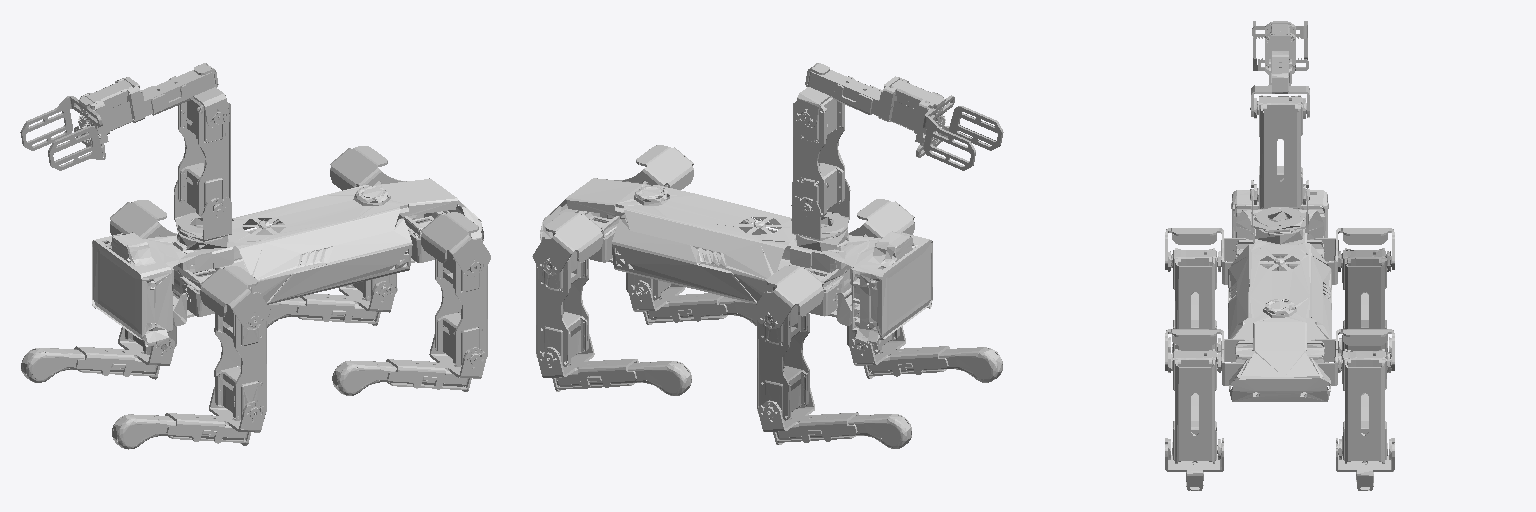
URDF robot description (min2_pro):
<?xml version='1.0' encoding='utf-8'?>
<robot name="min2_pro" version="1.0">
  <mujoco>
    <compiler strippath="false" fusestatic="false" discardvisual="false" />
  </mujoco>
  <joint name="fl_hip_joint" type="revolute">
    <limit lower="-0.6" upper="0.6" effort="0.43" velocity="10.00000" />
    <parent link="body_fixed" />
    <child link="left_front_shoulder_X" />
    <axis xyz="1.00000 -0.00000 -0.00000" />
    <origin xyz="-0.04946 -0.0225 -0.02207" rpy="0 0 0" />
    <dynamics damping="0.04" friction="0.001" />
  </joint>
  <joint name="fl_thigh_joint" type="revolute">
    <limit lower="-1.22" upper="1.91" effort="0.43" velocity="10.00000" />
    <parent link="left_front_shoulder_X" />
    <child link="left_front_thigh_Y" />
    <axis xyz="-0.00000 -1.00000 -0.00000" />
    <origin xyz="0.01857 -0.04956 0" rpy="0 0 0" />
    <dynamics damping="0.04" friction="0.001" />
  </joint>
  <joint name="fl_calf_joint" type="revolute">
    <limit lower="-1.134" upper="1.047" effort="0.43" velocity="10.00000" />
    <parent link="left_front_thigh_Y" />
    <child link="left_front_calf" />
    <axis xyz="-0.00000 -1.00000 -0.00000" />
    <origin xyz="0 0 -0.05991" rpy="0 0.2791268381 0" />
    <dynamics damping="0.04" friction="0.001" />
  </joint>
  <joint name="fr_hip_joint" type="revolute">
    <limit lower="-0.6" upper="0.6" effort="0.43" velocity="10.00000" />
    <parent link="body_fixed" />
    <child link="right_front_shoulder_X" />
    <axis xyz="-1.00000 -0.00000 -0.00000" />
    <origin xyz="-0.04946 0.0225 -0.02207" rpy="0 0 0" />
    <dynamics damping="0.04" friction="0.001" />
  </joint>
  <joint name="fr_thigh_joint" type="revolute">
    <limit lower="-1.22" upper="1.91" effort="0.43" velocity="10.00000" />
    <parent link="right_front_shoulder_X" />
    <child link="right_front_thigh_Y" />
    <axis xyz="-0.00000 -1.00000 -0.00000" />
    <origin xyz="0.01857 0.04876 0" rpy="0 0 0" />
    <dynamics damping="0.04" friction="0.001" />
  </joint>
  <joint name="fr_calf_joint" type="revolute">
    <limit lower="-1.134" upper="1.047" effort="0.43" velocity="10.00000" />
    <parent link="right_front_thigh_Y" />
    <child link="right_front_calf" />
    <axis xyz="-0.00000 -1.00000 -0.00000" />
    <origin xyz="1e-05 0.0008 -0.05991" rpy="0 0.2791268381 0" />
    <dynamics damping="0.04" friction="0.001" />
  </joint>
  <joint name="br_hip_joint" type="revolute">
    <limit lower="-0.6" upper="0.6" effort="0.43" velocity="10.00000" />
    <parent link="body_fixed" />
    <child link="right_hind_shoulder_X" />
    <axis xyz="-1.00000 -0.00000 -0.00000" />
    <origin xyz="0.10059 0.0225 -0.02207" rpy="0 0 0" />
    <dynamics damping="0.04" friction="0.001" />
  </joint>
  <joint name="br_thigh_joint" type="revolute">
    <limit lower="-1.22" upper="1.91" effort="0.43" velocity="10.00000" />
    <parent link="right_hind_shoulder_X" />
    <child link="right_hind_thigh_Y" />
    <axis xyz="-0.00000 -1.00000 -0.00000" />
    <origin xyz="0.01853 0.04876 0" rpy="0 0 0" />
    <dynamics damping="0.04" friction="0.001" />
  </joint>
  <joint name="br_calf_joint" type="revolute">
    <limit lower="-1.134" upper="1.047" effort="0.43" velocity="10.00000" />
    <parent link="right_hind_thigh_Y" />
    <child link="right_hind_calf" />
    <axis xyz="-0.00000 -1.00000 -0.00000" />
    <origin xyz="0 0.0008 -0.0599" rpy="0 0.2791268381 0" />
    <dynamics damping="0.04" friction="0.001" />
  </joint>
  <joint name="bl_hip_joint" type="revolute">
    <limit lower="-0.6" upper="0.6" effort="0.43" velocity="10.00000" />
    <parent link="body_fixed" />
    <child link="left_hind_shoulder_X" />
    <axis xyz="1.00000 -0.00000 -0.00000" />
    <origin xyz="0.10059 -0.0225 -0.02207" rpy="0 0 0" />
    <dynamics damping="0.04" friction="0.001" />
  </joint>
  <joint name="bl_thigh_joint" type="revolute">
    <limit lower="-1.22" upper="1.91" effort="0.43" velocity="10.00000" />
    <parent link="left_hind_shoulder_X" />
    <child link="left_hind_thigh_Y" />
    <axis xyz="-0.00000 -1.00000 -0.00000" />
    <origin xyz="0.01853 -0.04956 2e-05" rpy="0 0 0" />
    <dynamics damping="0.04" friction="0.001" />
  </joint>
  <joint name="bl_calf_joint" type="revolute">
    <limit lower="-1.134" upper="1.047" effort="0.43" velocity="10.00000" />
    <parent link="left_hind_thigh_Y" />
    <child link="left_hind_calf" />
    <axis xyz="-0.00000 -1.00000 -0.00000" />
    <origin xyz="0 0 -0.05994" rpy="0 0.2791268381 0" />
    <dynamics damping="0.04" friction="0.001" />
  </joint>
  <joint name="arm_yaw_joint" type="revolute">
    <limit lower="-3.14000" upper="3.14000" effort="0.43" velocity="10.00000" />
    <parent link="body_fixed" />
    <child link="claw_base_Z" />
    <axis xyz="0.00000 0.00000 1.00000" />
    <origin xyz="-0.02471 0 0.01166" rpy="0 0 0" />
    <dynamics damping="0.04" friction="0.001" />
  </joint>
  <joint name="arm_thigh_joint" type="revolute">
    <limit lower="-1.632" upper="1.3" effort="0.43" velocity="10.00000" />
    <parent link="claw_base_Z" />
    <child link="claw_mainarm_Y" />
    <axis xyz="0.00000 -1.00000 0.00000" />
    <origin xyz="0 0.01853 0.01538" rpy="0 0 0" />
    <dynamics damping="0.04" friction="0.001" />
  </joint>
  <joint name="arm_calf_joint" type="revolute">
    <limit lower="-0.95" upper="1.57" effort="0.43" velocity="10.00000" />
    <parent link="claw_mainarm_Y" />
    <child link="claw_forearm_Y" />
    <axis xyz="0.00000 -1.00000 0.00000" />
    <origin xyz="0 0 0.0599" rpy="0 -0.1744383615 0" />
    <dynamics damping="0.04" friction="0.001" />
  </joint>
  <joint name="hand_right_joint" type="fixed">
    <parent link="claw_forearm_Y" />
    <child link="right_claw" />
    <origin xyz="-0.0957 -0.00124 0.01837" rpy="0 0 0" />
  </joint>
  <joint name="hand_left_joint" type="fixed">
    <parent link="claw_forearm_Y" />
    <child link="left_claw" />
    <origin xyz="-0.0957 -0.03531 0.01837" rpy="0 0 0" />
  </joint>
  <link name="body_fixed">
    <inertial>
      <origin xyz="0.033729 9.9e-05 -0.015405" rpy="0 0 0" />
      <mass value="0.28377" />
      <inertia ixx="0.0001208096633" ixy="2.599996629e-07" ixz="-2.870910424e-06" iyy="0.001147440317" iyz="1.500046467e-07" izz="0.00120568202" />
    </inertial>
    <visual name="base_visual">
      <origin xyz="-0.03051 0 -0.03361" rpy="0 0 0" />
      <geometry>
        <mesh filename="../meshes/stl/fillet_3_006.stl" />
      </geometry>
      <material name="base_visual_material">
        <color rgba="0.88 0.88 0.88 1" />
      </material>
    </visual>
    <collision name="base_collision">
      <origin xyz="-0.03051 0 -0.03361" rpy="0 0 0" />
      <geometry>
        <mesh filename="../meshes/stl/fillet_3_006.stl" />
      </geometry>
    </collision>
  </link>
  <link name="claw_base_Z">
    <inertial>
      <origin xyz="0.00045 -4.9e-05 0.005394" rpy="0 0 0" />
      <mass value="0.01" />
      <inertia ixx="1e-05" ixy="0" ixz="0" iyy="1e-05" iyz="0" izz="1e-05" />
    </inertial>
    <visual name="arm_base_visual">
      <origin xyz="0 0 -0.00631" rpy="1.570800569 0 0" />
      <geometry>
        <mesh filename="../meshes/stl/cut_extrude_2_007.stl" />
      </geometry>
      <material name="arm_base_visual_material">
        <color rgba="0.82 0.82 0.82 1" />
      </material>
    </visual>
    <collision name="arm_base_collision">
      <origin xyz="0 0 -0.00631" rpy="1.570800569 0 0" />
      <geometry>
        <mesh filename="../meshes/stl/cut_extrude_2_007.stl" />
      </geometry>
    </collision>
  </link>
  <link name="left_hind_thigh_Y">
    <inertial>
      <origin xyz="0.00173 0.0186 -0.029682" rpy="0 0 0" />
      <mass value="0.062343" />
      <inertia ixx="4.672004477e-05" ixy="-1.000003486e-07" ixz="1.100060521e-07" iyy="4.153002593e-05" iyz="0" izz="9.970999296e-06" />
    </inertial>
    <visual name="bl_thigh_visual">
      <origin xyz="0.01154 0.01895 -0.02997" rpy="1.570800327 8.000045071e-12 -1.570800327" />
      <geometry>
        <mesh filename="../meshes/stl/fillet_2_004.stl" />
      </geometry>
      <material name="bl_thigh_visual_material">
        <color rgba="0.82 0.82 0.82 1" />
      </material>
    </visual>
    <collision name="bl_thigh_collision">
      <origin xyz="0.01154 0.01895 -0.02997" rpy="1.570800327 8.000045071e-12 -1.570800327" />
      <geometry>
        <mesh filename="../meshes/stl/fillet_2_004.stl" />
      </geometry>
    </collision>
  </link>
  <link name="left_hind_calf">
    <inertial>
      <origin xyz="-0.034729 0.018555 -0.013665" rpy="0 0 0" />
      <mass value="0.02225" />
      <inertia ixx="1.398998961e-05" ixy="0" ixz="-1.089999092e-06" iyy="1.366e-05" iyz="0" izz="1.500000386e-06" />
    </inertial>
    <visual name="bl_calf_visual">
      <origin xyz="-0.0715 0.01858 -0.02255" rpy="1.570800569 0 0" />
      <geometry>
        <mesh filename="../meshes/stl/cut_extrude_8_003.stl" />
      </geometry>
      <material name="bl_calf_visual_material">
        <color rgba="0.82 0.82 0.82 1" />
      </material>
    </visual>
    <collision name="bl_calf_collision">
      <origin xyz="-0.0715 0.01858 -0.02255" rpy="1.570800569 0 0" />
      <geometry>
        <mesh filename="../meshes/stl/cut_extrude_8_003.stl" />
      </geometry>
    </collision>
  </link>
  <link name="right_front_shoulder_X">
    <inertial>
      <origin xyz="0.018547 0.021288 0.007239" rpy="0 0 0" />
      <mass value="0.0196" />
      <inertia ixx="5.889996332e-06" ixy="5.700006902e-07" ixz="-2.599985012e-07" iyy="3.789997555e-06" iyz="1.159998744e-06" izz="6.889996113e-06" />
    </inertial>
    <visual name="fr_hip_visual">
      <origin xyz="0.01853 0.01416 0" rpy="1.570800569 0 0" />
      <geometry>
        <mesh filename="../meshes/stl/left_shoulder_convert_1_002.stl" />
      </geometry>
      <material name="fr_hip_visual_material">
        <color rgba="0.82 0.82 0.82 1" />
      </material>
    </visual>
    <collision name="fr_hip_collision">
      <origin xyz="0.01853 0.01416 0" rpy="1.570800569 0 0" />
      <geometry>
        <mesh filename="../meshes/stl/left_shoulder_convert_1_002.stl" />
      </geometry>
    </collision>
  </link>
  <link name="right_front_thigh_Y">
    <inertial>
      <origin xyz="0.001806 -0.018484 -0.029623" rpy="0 0 0" />
      <mass value="0.062343" />
      <inertia ixx="4.672004477e-05" ixy="1.000003486e-07" ixz="1.100060521e-07" iyy="4.153002593e-05" iyz="0" izz="9.970999296e-06" />
    </inertial>
    <visual name="fr_thigh_visual">
      <origin xyz="0.01154 -0.01815 -0.02995" rpy="1.570800327 -8.000045071e-12 1.570800327" />
      <geometry>
        <mesh filename="../meshes/stl/thigh_bracket_2_2_001.stl" />
      </geometry>
      <material name="fr_thigh_visual_material">
        <color rgba="0.7 0.7 0.7 1" />
      </material>
    </visual>
    <collision name="fr_thigh_collision">
      <origin xyz="0.01154 -0.01815 -0.02995" rpy="1.570800327 -8.000045071e-12 1.570800327" />
      <geometry>
        <mesh filename="../meshes/stl/thigh_bracket_2_2_001.stl" />
      </geometry>
    </collision>
  </link>
  <link name="right_front_calf">
    <inertial>
      <origin xyz="-0.034808 -0.018555 -0.013827" rpy="0 0 0" />
      <mass value="0.02225" />
      <inertia ixx="1.398998961e-05" ixy="0" ixz="-1.089999092e-06" iyy="1.366e-05" iyz="0" izz="1.500000386e-06" />
    </inertial>
    <visual name="fr_calf_visual">
      <origin xyz="-0.07151 -0.01858 -0.02256" rpy="1.570800569 0 0" />
      <geometry>
        <mesh filename="../meshes/stl/cut_extrude_8_001.stl" />
      </geometry>
      <material name="fr_calf_visual_material">
        <color rgba="0.82 0.82 0.82 1" />
      </material>
    </visual>
    <collision name="fr_calf_collision">
      <origin xyz="-0.07151 -0.01858 -0.02256" rpy="1.570800569 0 0" />
      <geometry>
        <mesh filename="../meshes/stl/cut_extrude_8_001.stl" />
      </geometry>
    </collision>
  </link>
  <link name="right_hind_shoulder_X">
    <inertial>
      <origin xyz="0.018547 0.021288 0.007239" rpy="0 0 0" />
      <mass value="0.0196" />
      <inertia ixx="5.889996332e-06" ixy="5.700006902e-07" ixz="-2.599985012e-07" iyy="3.789997555e-06" iyz="1.159998744e-06" izz="6.889996113e-06" />
    </inertial>
    <visual name="br_hip_visual">
      <origin xyz="0.01853 0.01416 0" rpy="1.570800569 0 0" />
      <geometry>
        <mesh filename="../meshes/stl/left_shoulder_convert_1_002.stl" />
      </geometry>
      <material name="br_hip_visual_material">
        <color rgba="0.82 0.82 0.82 1" />
      </material>
    </visual>
    <collision name="br_hip_collision">
      <origin xyz="0.01853 0.01416 0" rpy="1.570800569 0 0" />
      <geometry>
        <mesh filename="../meshes/stl/left_shoulder_convert_1_002.stl" />
      </geometry>
    </collision>
  </link>
  <link name="right_hind_thigh_Y">
    <inertial>
      <origin xyz="0.001733 -0.018484 -0.02957" rpy="0 0 0" />
      <mass value="0.062343" />
      <inertia ixx="4.672004477e-05" ixy="1.000003486e-07" ixz="1.100060521e-07" iyy="4.153002593e-05" iyz="0" izz="9.970999296e-06" />
    </inertial>
    <visual name="br_thigh_visual">
      <origin xyz="0.01154 -0.01815 -0.02995" rpy="1.570800327 -8.000045071e-12 1.570800327" />
      <geometry>
        <mesh filename="../meshes/stl/thigh_bracket_2_2_002.stl" />
      </geometry>
      <material name="br_thigh_visual_material">
        <color rgba="0.82 0.82 0.82 1" />
      </material>
    </visual>
    <collision name="br_thigh_collision">
      <origin xyz="0.01154 -0.01815 -0.02995" rpy="1.570800327 -8.000045071e-12 1.570800327" />
      <geometry>
        <mesh filename="../meshes/stl/thigh_bracket_2_2_002.stl" />
      </geometry>
    </collision>
  </link>
  <link name="right_hind_calf">
    <inertial>
      <origin xyz="-0.034809 -0.018545 -0.014121" rpy="0 0 0" />
      <mass value="0.02225" />
      <inertia ixx="1.398998961e-05" ixy="0" ixz="-1.089999092e-06" iyy="1.366e-05" iyz="0" izz="1.500000386e-06" />
    </inertial>
    <visual name="br_calf_visual">
      <origin xyz="-0.0715 -0.01857 -0.0232" rpy="1.570800569 0 0" />
      <geometry>
        <mesh filename="../meshes/stl/cut_extrude_8_004.stl" />
      </geometry>
      <material name="br_calf_visual_material">
        <color rgba="0.82 0.82 0.82 1" />
      </material>
    </visual>
    <collision name="br_calf_collision">
      <origin xyz="-0.0715 -0.01857 -0.0232" rpy="1.570800569 0 0" />
      <geometry>
        <mesh filename="../meshes/stl/cut_extrude_8_004.stl" />
      </geometry>
    </collision>
  </link>
  <link name="claw_mainarm_Y">
    <inertial>
      <origin xyz="0.001748 -0.018489 0.029584" rpy="0 0 0" />
      <mass value="0.018812" />
      <inertia ixx="9.709997103e-06" ixy="0" ixz="1.100277852e-07" iyy="4.153002594e-05" iyz="1.000004553e-07" izz="4.672004696e-05" />
    </inertial>
    <visual name="arm_thigh_visual">
      <origin xyz="0.09773 -0.01624 -0.3029" rpy="0 0 0" />
      <geometry>
        <mesh filename="../meshes/stl/NONE.4641.stl" />
      </geometry>
      <material name="arm_thigh_visual_material">
        <color rgba="0.82 0.82 0.82 1" />
      </material>
    </visual>
    <collision name="arm_thigh_collision">
      <origin xyz="0.09773 -0.01624 -0.3029" rpy="0 0 0" />
      <geometry>
        <mesh filename="../meshes/stl/NONE.4641.stl" />
      </geometry>
    </collision>
  </link>
  <link name="claw_forearm_Y">
    <inertial>
      <origin xyz="-0.033952 -0.018355 0.014479" rpy="0 0 0" />
      <mass value="0.017297" />
      <inertia ixx="3.720013706e-06" ixy="4.00022449e-08" ixz="-3.380037046e-06" iyy="2.722003209e-05" iyz="-1.00014706e-08" izz="2.63799742e-05" />
    </inertial>
    <visual name="arm_calf_visual">
      <origin xyz="0.0085 -0.01827 0.01267" rpy="1.570800569 0 0" />
      <geometry>
        <mesh filename="../meshes/stl/cut_extrude_12_001.stl" />
      </geometry>
      <material name="arm_calf_visual_material">
        <color rgba="0.82 0.82 0.82 1" />
      </material>
    </visual>
    <collision name="arm_calf_collision">
      <origin xyz="0.0085 -0.01827 0.01267" rpy="1.570800569 0 0" />
      <geometry>
        <mesh filename="../meshes/stl/cut_extrude_12_001.stl" />
      </geometry>
    </collision>
  </link>
  <link name="left_claw">
    <inertial>
      <origin xyz="0.002475 0.017349 -0.002371" rpy="0 0 0" />
      <mass value="0.0010815" />
      <inertia ixx="1.556399521e-07" ixy="-6.181287972e-08" ixz="-4.826499704e-08" iyy="2.116998059e-07" iyz="-3.562216846e-08" izz="2.47600342e-07" />
    </inertial>
    <visual name="hand_left_visual">
      <origin xyz="0.0208 -0.0149 -0.002" rpy="1.570800327 -8.000045071e-12 1.570800327" />
      <geometry>
        <mesh filename="../meshes/stl/fillet_9_009.stl" />
      </geometry>
      <material name="hand_left_visual_material">
        <color rgba="0.75 0.75 0.75 1" />
      </material>
    </visual>
    <collision name="hand_left_collision">
      <origin xyz="0.0208 -0.0149 -0.002" rpy="1.570800327 -8.000045071e-12 1.570800327" />
      <geometry>
        <mesh filename="../meshes/stl/fillet_9_009.stl" />
      </geometry>
    </collision>
  </link>
  <link name="right_claw">
    <inertial>
      <origin xyz="0.002227 -0.0175 0.002325" rpy="0 0 0" />
      <mass value="0.0010815" />
      <inertia ixx="1.556399521e-07" ixy="6.181287972e-08" ixz="4.826499704e-08" iyy="2.116998059e-07" iyz="-3.562216846e-08" izz="2.47600342e-07" />
    </inertial>
    <visual name="hand_right_visual">
      <origin xyz="0.0208 0.0149 0.002" rpy="-1.570800327 -8.000045071e-12 -1.570800327" />
      <geometry>
        <mesh filename="../meshes/stl/fillet_9_010.stl" />
      </geometry>
      <material name="hand_right_visual_material">
        <color rgba="0.75 0.75 0.75 1" />
      </material>
    </visual>
    <collision name="hand_right_collision">
      <origin xyz="0.0208 0.0149 0.002" rpy="-1.570800327 -8.000045071e-12 -1.570800327" />
      <geometry>
        <mesh filename="../meshes/stl/fillet_9_010.stl" />
      </geometry>
    </collision>
  </link>
  <link name="left_front_shoulder_X">
    <inertial>
      <origin xyz="0.018438 -0.021283 0.007233" rpy="0 0 0" />
      <mass value="0.0196" />
      <inertia ixx="5.889996332e-06" ixy="-5.700006902e-07" ixz="-2.599985012e-07" iyy="3.789997555e-06" iyz="-1.159998744e-06" izz="6.889996113e-06" />
    </inertial>
    <visual name="fl_hip_visual">
      <origin xyz="0.01852 -0.01416 0" rpy="1.570800569 0 0" />
      <geometry>
        <mesh filename="../meshes/stl/convert_1_003.stl" />
      </geometry>
      <material name="fl_hip_visual_material">
        <color rgba="0.82 0.82 0.82 1" />
      </material>
    </visual>
    <collision name="fl_hip_collision">
      <origin xyz="0.01852 -0.01416 0" rpy="1.570800569 0 0" />
      <geometry>
        <mesh filename="../meshes/stl/convert_1_003.stl" />
      </geometry>
    </collision>
  </link>
  <link name="left_front_thigh_Y">
    <inertial>
      <origin xyz="0.00173 0.018616 -0.029475" rpy="0 0 0" />
      <mass value="0.062343" />
      <inertia ixx="4.672004477e-05" ixy="-1.000003486e-07" ixz="1.100060521e-07" iyy="4.153002593e-05" iyz="0" izz="9.970999296e-06" />
    </inertial>
    <visual name="fl_thigh_visual">
      <origin xyz="0.01154 0.01895 -0.02995" rpy="1.570800327 8.000045071e-12 -1.570800327" />
      <geometry>
        <mesh filename="../meshes/stl/fillet_2_003.stl" />
      </geometry>
      <material name="fl_thigh_visual_material">
        <color rgba="0.82 0.82 0.82 1" />
      </material>
    </visual>
    <collision name="fl_thigh_collision">
      <origin xyz="0.01154 0.01895 -0.02995" rpy="1.570800327 8.000045071e-12 -1.570800327" />
      <geometry>
        <mesh filename="../meshes/stl/fillet_2_003.stl" />
      </geometry>
    </collision>
  </link>
  <link name="left_front_calf">
    <inertial>
      <origin xyz="-0.034719 0.018555 -0.013632" rpy="0 0 0" />
      <mass value="0.02225" />
      <inertia ixx="1.398998961e-05" ixy="0" ixz="-1.089999092e-06" iyy="1.366e-05" iyz="0" izz="1.500000386e-06" />
    </inertial>
    <visual name="fl_calf_visual">
      <origin xyz="-0.07149 0.01858 -0.02256" rpy="1.570800569 0 0" />
      <geometry>
        <mesh filename="../meshes/stl/cut_extrude_8_002.stl" />
      </geometry>
      <material name="fl_calf_visual_material">
        <color rgba="0.82 0.82 0.82 1" />
      </material>
    </visual>
    <collision name="fl_calf_collision">
      <origin xyz="-0.07149 0.01858 -0.02256" rpy="1.570800569 0 0" />
      <geometry>
        <mesh filename="../meshes/stl/cut_extrude_8_002.stl" />
      </geometry>
    </collision>
  </link>
  <link name="left_hind_shoulder_X">
    <inertial>
      <origin xyz="0.018438 -0.021283 0.007233" rpy="0 0 0" />
      <mass value="0.0196" />
      <inertia ixx="5.889996332e-06" ixy="-5.700006902e-07" ixz="-2.599985012e-07" iyy="3.789997555e-06" iyz="-1.159998744e-06" izz="6.889996113e-06" />
    </inertial>
    <visual name="bl_hip_visual">
      <origin xyz="0.01852 -0.01416 0" rpy="1.570800569 0 0" />
      <geometry>
        <mesh filename="../meshes/stl/convert_1_003.stl" />
      </geometry>
      <material name="bl_hip_visual_material">
        <color rgba="0.82 0.82 0.82 1" />
      </material>
    </visual>
    <collision name="bl_hip_collision">
      <origin xyz="0.01852 -0.01416 0" rpy="1.570800569 0 0" />
      <geometry>
        <mesh filename="../meshes/stl/convert_1_003.stl" />
      </geometry>
    </collision>
  </link>
  <material name="夹子">
    <color rgba="0.75000 0.75000 0.75000 1.00000" />
  </material>
  <material name="法兰盘">
    <color rgba="0.82000 0.82000 0.82000 1.00000" />
  </material>
  <material name="法兰盘.001">
    <color rgba="0.82000 0.82000 0.82000 1.00000" />
  </material>
  <material name="法兰盘.002">
    <color rgba="0.82000 0.82000 0.82000 1.00000" />
  </material>
  <material name="法兰盘.008">
    <color rgba="0.82000 0.82000 0.82000 1.00000" />
  </material>
  <material name="法兰盘.010">
    <color rgba="0.82000 0.82000 0.82000 1.00000" />
  </material>
  <material name="法兰盘.015">
    <color rgba="0.82000 0.82000 0.82000 1.00000" />
  </material>
  <material name="法兰盘.016">
    <color rgba="0.82000 0.82000 0.82000 1.00000" />
  </material>
  <material name="法兰盘.019">
    <color rgba="0.82000 0.82000 0.82000 1.00000" />
  </material>
  <material name="法兰盘.021">
    <color rgba="0.82000 0.82000 0.82000 1.00000" />
  </material>
  <material name="法兰盘.022">
    <color rgba="0.82000 0.82000 0.82000 1.00000" />
  </material>
  <material name="法兰盘.024">
    <color rgba="0.82000 0.82000 0.82000 1.00000" />
  </material>
  <material name="法兰盘.027">
    <color rgba="0.82000 0.82000 0.82000 1.00000" />
  </material>
  <material name="电机塑胶.002">
    <color rgba="0.70000 0.70000 0.70000 1.00000" />
  </material>
  <material name="金属">
    <color rgba="0.88000 0.88000 0.88000 1.00000" />
  </material>
</robot>

--- What the picture shows (computed from the rendered views, not written in the file) ---
Views: 3 orthographic renders of the robot side by side, from view 1: azimuth 30°, elevation 25°; view 2: azimuth 150°, elevation 25°; view 3: azimuth 270°, elevation 25°.
Robot: min2_pro — 18 links, 17 joints (15 revolute, 2 fixed); root link body_fixed; default pose: every joint at zero.
Visible links, largest first — view 1: body_fixed, claw_forearm_Y, claw_mainarm_Y, left_hind_thigh_Y, left_front_thigh_Y, left_hind_calf, left_front_calf, right_front_calf, right_hind_calf, left_front_shoulder_X, left_hind_shoulder_X, claw_base_Z (+4 smaller); view 2: body_fixed, claw_forearm_Y, claw_mainarm_Y, right_hind_thigh_Y, right_front_thigh_Y, right_hind_calf, right_front_calf, left_front_calf, left_hind_calf, right_front_shoulder_X, right_hind_shoulder_X, claw_base_Z (+4 smaller); view 3: body_fixed, claw_mainarm_Y, right_hind_thigh_Y, left_hind_thigh_Y, right_front_thigh_Y, left_front_thigh_Y, claw_forearm_Y, claw_base_Z, left_hind_shoulder_X, right_hind_shoulder_X, left_front_shoulder_X, left_hind_calf (+2 smaller).
Link boxes in pixels (x1,y1,x2,y2): body_fixed: (92, 178, 483, 347); claw_forearm_Y: (78, 63, 229, 146); claw_mainarm_Y: (178, 99, 230, 218); left_hind_thigh_Y: (435, 252, 487, 366); left_front_thigh_Y: (214, 306, 266, 420); left_hind_calf: (332, 334, 486, 395); left_front_calf: (112, 387, 265, 449); right_front_calf: (21, 327, 174, 382); right_hind_calf: (267, 281, 395, 327); left_front_shoulder_X: (182, 266, 270, 327); left_hind_shoulder_X: (405, 212, 490, 274); claw_base_Z: (174, 180, 231, 251); body_fixed: (540, 178, 932, 345); claw_forearm_Y: (794, 63, 945, 150); claw_mainarm_Y: (792, 98, 844, 217); right_hind_thigh_Y: (536, 251, 588, 366); right_front_thigh_Y: (757, 305, 809, 420); right_hind_calf: (537, 334, 691, 395); right_front_calf: (758, 388, 911, 448); left_front_calf: (849, 326, 1002, 382); left_hind_calf: (628, 280, 756, 325); right_front_shoulder_X: (753, 265, 841, 327); right_hind_shoulder_X: (532, 212, 618, 273); claw_base_Z: (791, 179, 850, 251); body_fixed: (1227, 190, 1333, 401); claw_mainarm_Y: (1250, 95, 1309, 208); right_hind_thigh_Y: (1334, 349, 1391, 463); left_hind_thigh_Y: (1168, 349, 1221, 463); right_front_thigh_Y: (1334, 248, 1391, 354); left_front_thigh_Y: (1168, 248, 1221, 354); claw_forearm_Y: (1250, 21, 1309, 118); claw_base_Z: (1251, 180, 1308, 244); left_hind_shoulder_X: (1165, 329, 1248, 385); right_hind_shoulder_X: (1311, 329, 1394, 385); left_front_shoulder_X: (1165, 228, 1249, 284); left_hind_calf: (1165, 393, 1223, 490).
Size in the robot's own frame: 0.2899 by 0.1441 by 0.2249 metres.
18 mesh visuals loaded from 16 distinct referenced files (16 binary STL).
